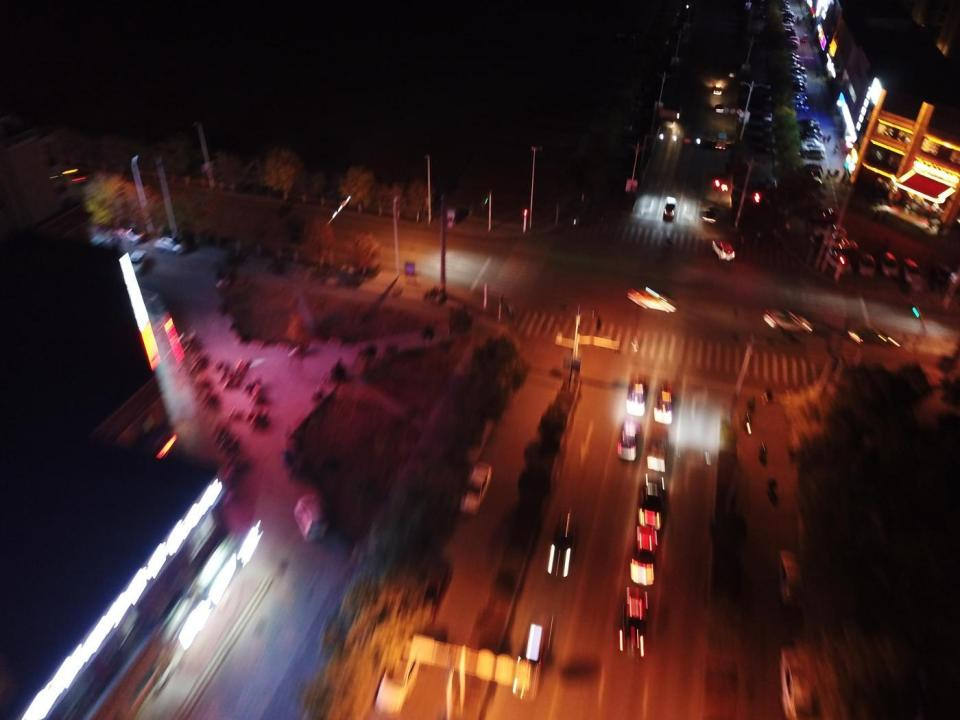car: (510, 610, 553, 702), (374, 635, 422, 717), (546, 507, 576, 576), (618, 585, 646, 655), (458, 460, 492, 515), (778, 550, 805, 609), (631, 525, 657, 585), (640, 473, 663, 530), (627, 286, 677, 312), (764, 308, 813, 333), (848, 327, 899, 348), (618, 418, 640, 461), (654, 383, 674, 425), (213, 269, 245, 293), (626, 378, 644, 417), (154, 235, 187, 254), (827, 250, 852, 274), (809, 207, 840, 226), (114, 226, 145, 244), (826, 236, 858, 252), (813, 224, 846, 239), (712, 240, 734, 261), (871, 201, 900, 215), (86, 234, 104, 252), (701, 206, 720, 223), (798, 138, 824, 149), (798, 175, 822, 186), (798, 150, 825, 159), (104, 238, 118, 255), (799, 167, 822, 177), (797, 162, 822, 171), (798, 132, 820, 142), (796, 118, 820, 127), (798, 127, 822, 136), (800, 144, 824, 152), (696, 138, 715, 148), (790, 78, 807, 86), (630, 99, 640, 112), (794, 88, 810, 96), (790, 94, 806, 102), (781, 53, 800, 59), (638, 82, 646, 96), (792, 104, 808, 111), (622, 120, 633, 129), (762, 94, 774, 102), (790, 72, 806, 78), (712, 84, 721, 94), (786, 38, 800, 44), (714, 103, 723, 112), (728, 68, 736, 78), (764, 111, 772, 121), (764, 125, 772, 135), (789, 67, 805, 72), (652, 53, 660, 62), (782, 17, 794, 23), (792, 83, 806, 88), (790, 99, 804, 104), (759, 13, 770, 19), (787, 58, 800, 63), (764, 144, 772, 152), (661, 36, 668, 44), (782, 21, 793, 26), (786, 44, 797, 49), (762, 83, 771, 89), (781, 11, 794, 15), (670, 16, 676, 24), (788, 36, 799, 40), (756, 4, 766, 8), (779, 8, 789, 12), (782, 13, 792, 17), (786, 31, 796, 35), (792, 63, 800, 68), (674, 9, 680, 15), (780, 3, 789, 7), (784, 28, 794, 31), (780, 0, 788, 3)
truck: (647, 430, 668, 470), (660, 104, 681, 140), (715, 132, 726, 149), (803, 34, 807, 42)
van: (779, 640, 834, 719), (932, 262, 958, 293), (123, 250, 147, 276), (902, 258, 924, 286), (858, 252, 875, 276), (882, 252, 898, 277), (664, 196, 676, 217)
